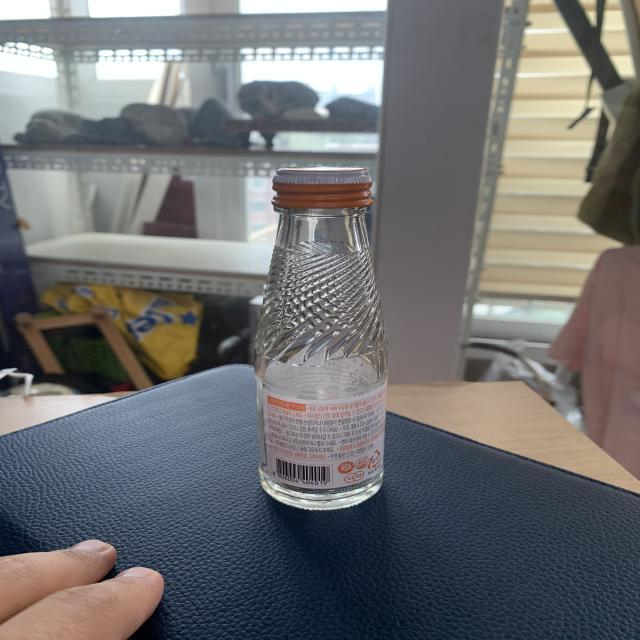Glass: (258, 166, 385, 512)
